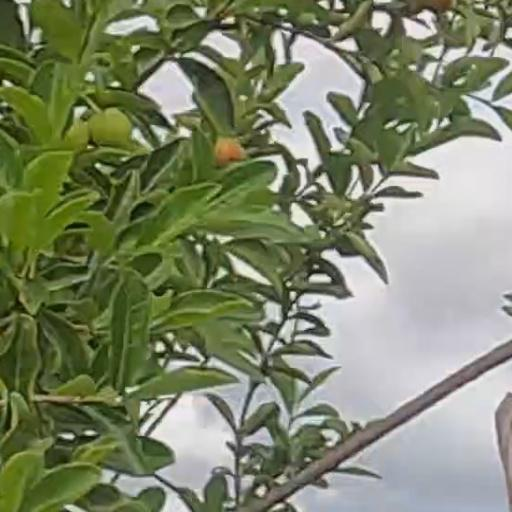acerola_verde: (91, 110, 131, 148)
acerola_vermelha: (217, 138, 247, 164)
